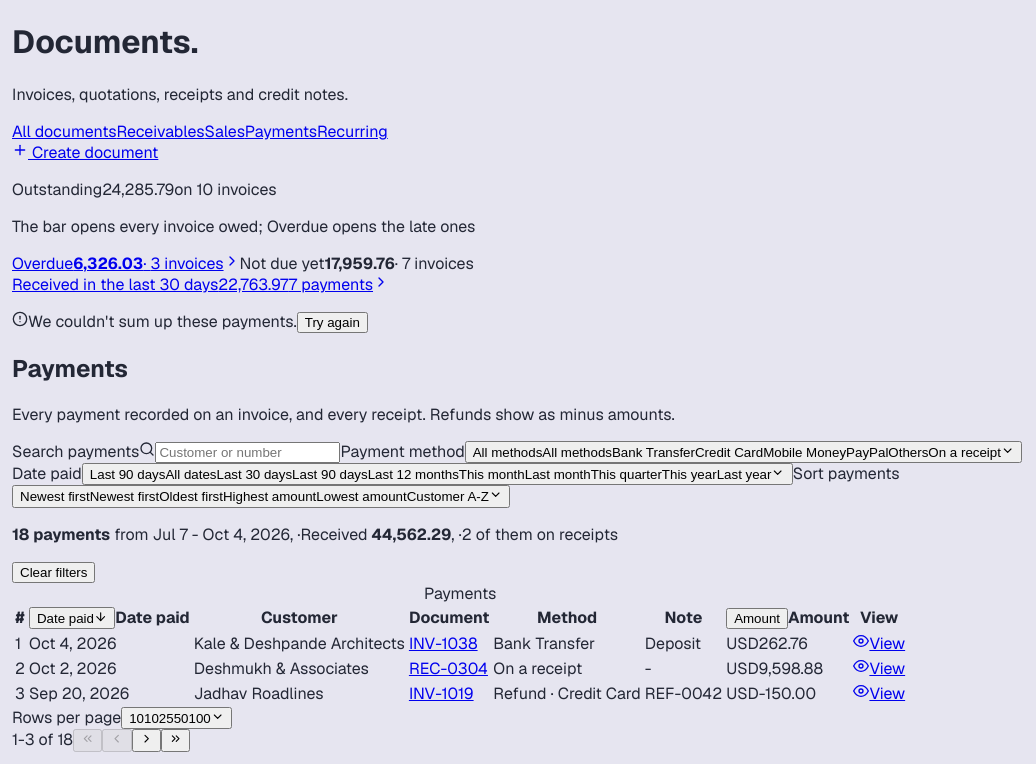
Test: summary load error keeps list
Expected: the table is shown, [12,583,908,707]
Expected: the message "We couldn't sum up these payments. Try again" is shown, [12,311,368,333]
What coordinates should you click on to do the following:
click the button "Try again"
I would click on:
 (332, 322)
Its box is [297,312,368,333].
(page scrolled)
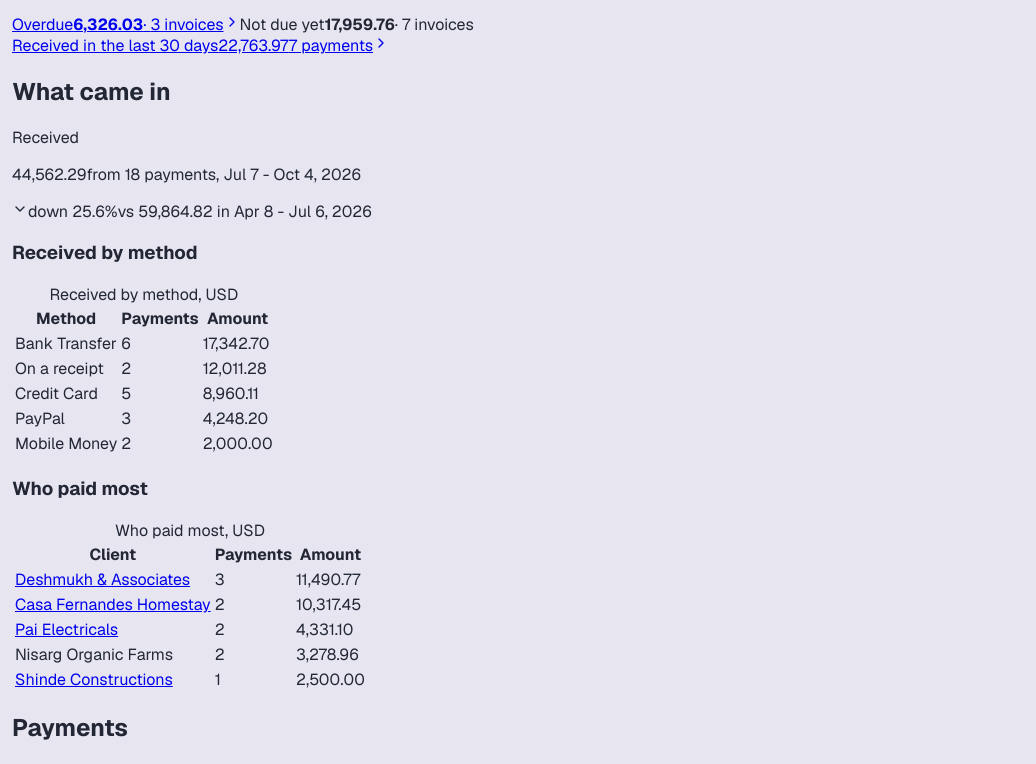
Result: the table that starts with "Received by method, USD" is shown at [12,284,276,457]
Result: the element that starts with "What came in" shows "44,562.29" at [12,76,372,690]
